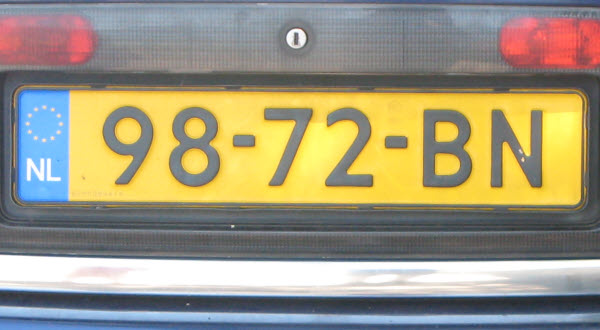license_plate: (13, 82, 590, 209)
